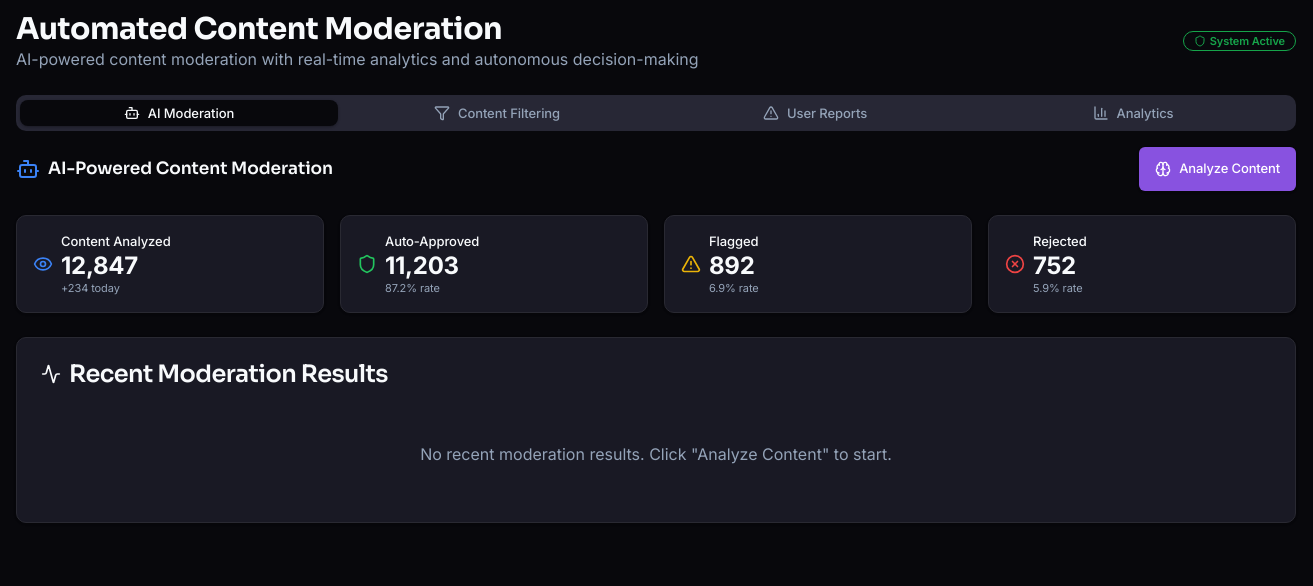
AutomatedContentModerationDashboard › US-169: Autonomous User Reporting Systems › should display user reporting panel
Click the tab "User Reports". click: (815, 113)
box: [656,100,974,126]
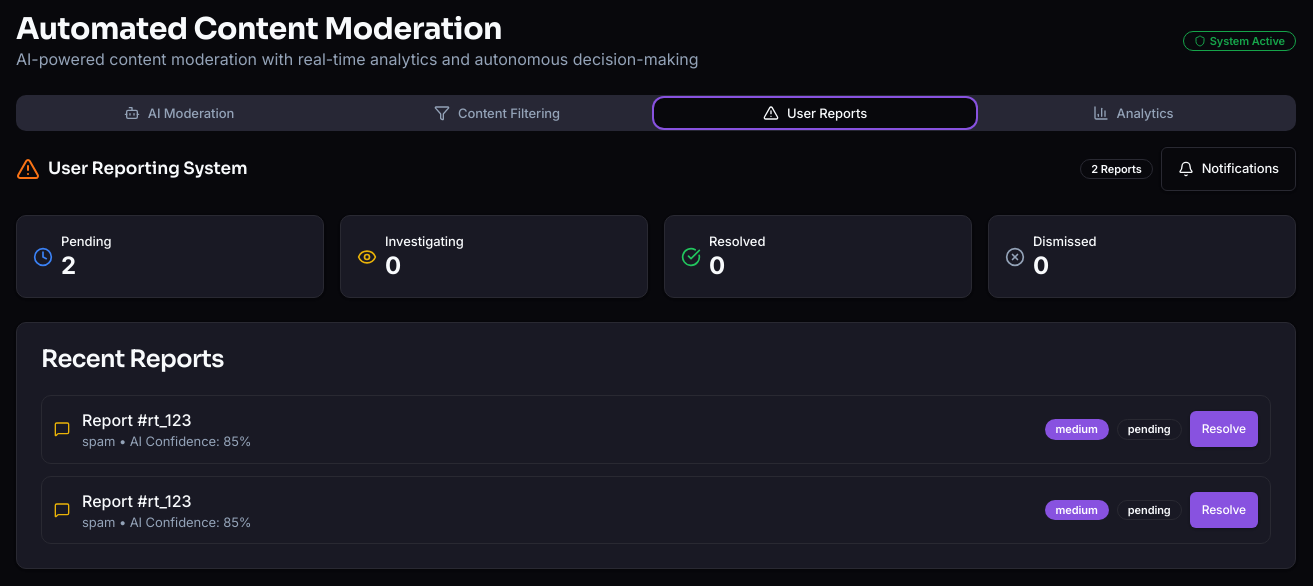
Now the heading "User Reporting System" is shown, box [48,156,248,182]
Now the text "Notifications" is shown, box [1202,159,1279,179]
